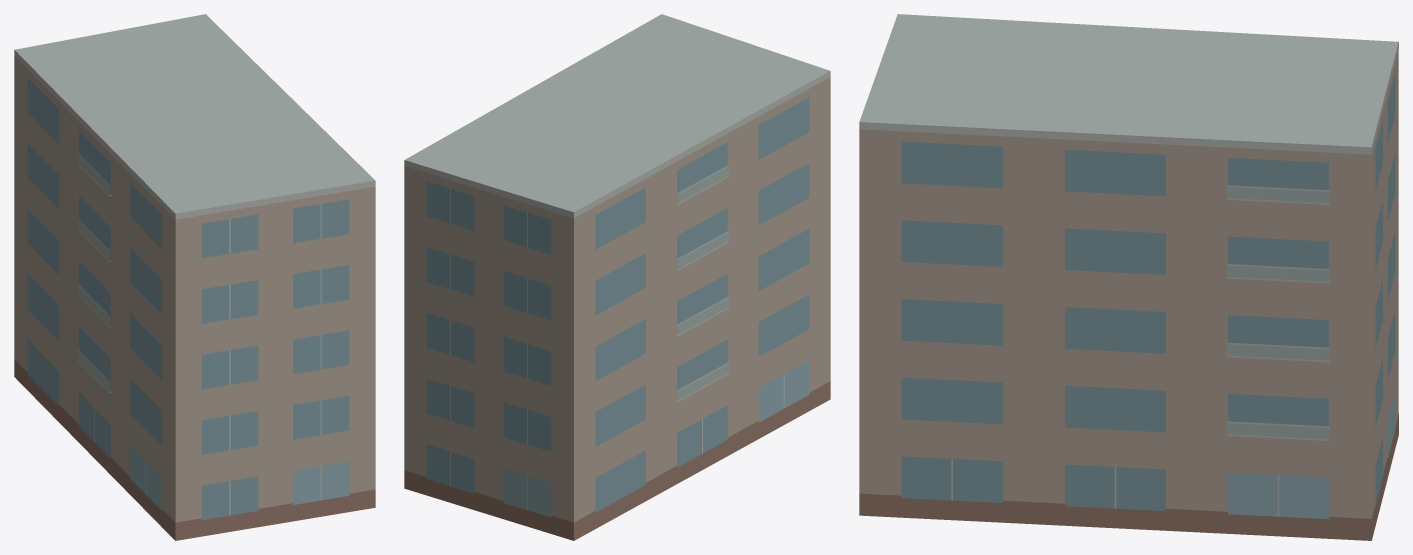
File: survey-upis-32923787.glb
The picture shows the model from 3 angles, left to right: view 1: azimuth 30°, elevation 25°; view 2: azimuth 150°, elevation 25°; view 3: azimuth 270°, elevation 25°; orthographic projection. The views are drawn at different scales.
Visible parts, largest first — view 1: survey-upis-32923787.tmp; view 2: survey-upis-32923787.tmp; view 3: survey-upis-32923787.tmp.
Part boxes in pixels (bbox=[...]): survey-upis-32923787.tmp: bbox=[14, 14, 375, 540]; survey-upis-32923787.tmp: bbox=[404, 14, 830, 540]; survey-upis-32923787.tmp: bbox=[859, 14, 1398, 540].
Size of the model in its own units: 9.61 by 13.2 by 16.41.
